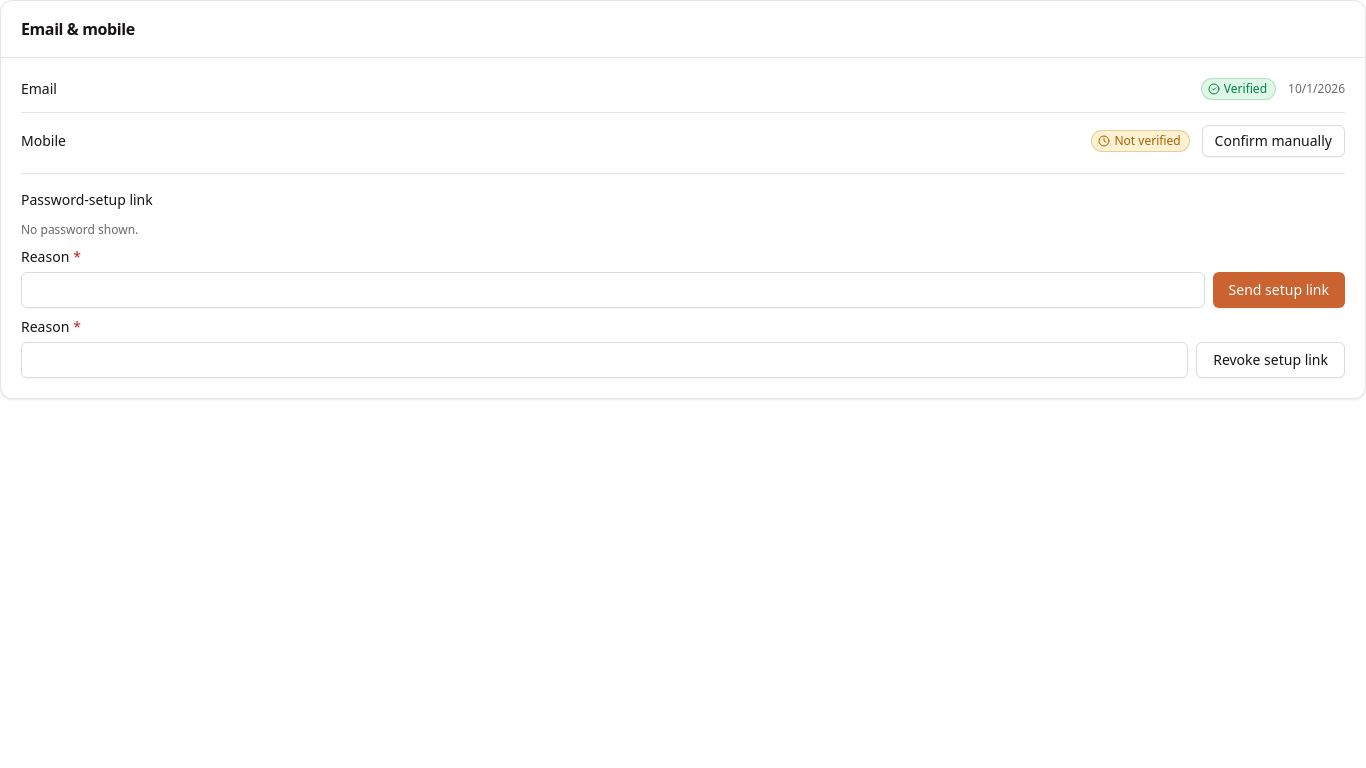
the contact verification card › offers manual confirmation only for an unverified channel, and asks for a reason
What coordinates should you click on to do the following:
click the button "Confirm manually"
I would click on:
 (1273, 141)
Its box is top-left (1202, 125), bottom-right (1345, 157).
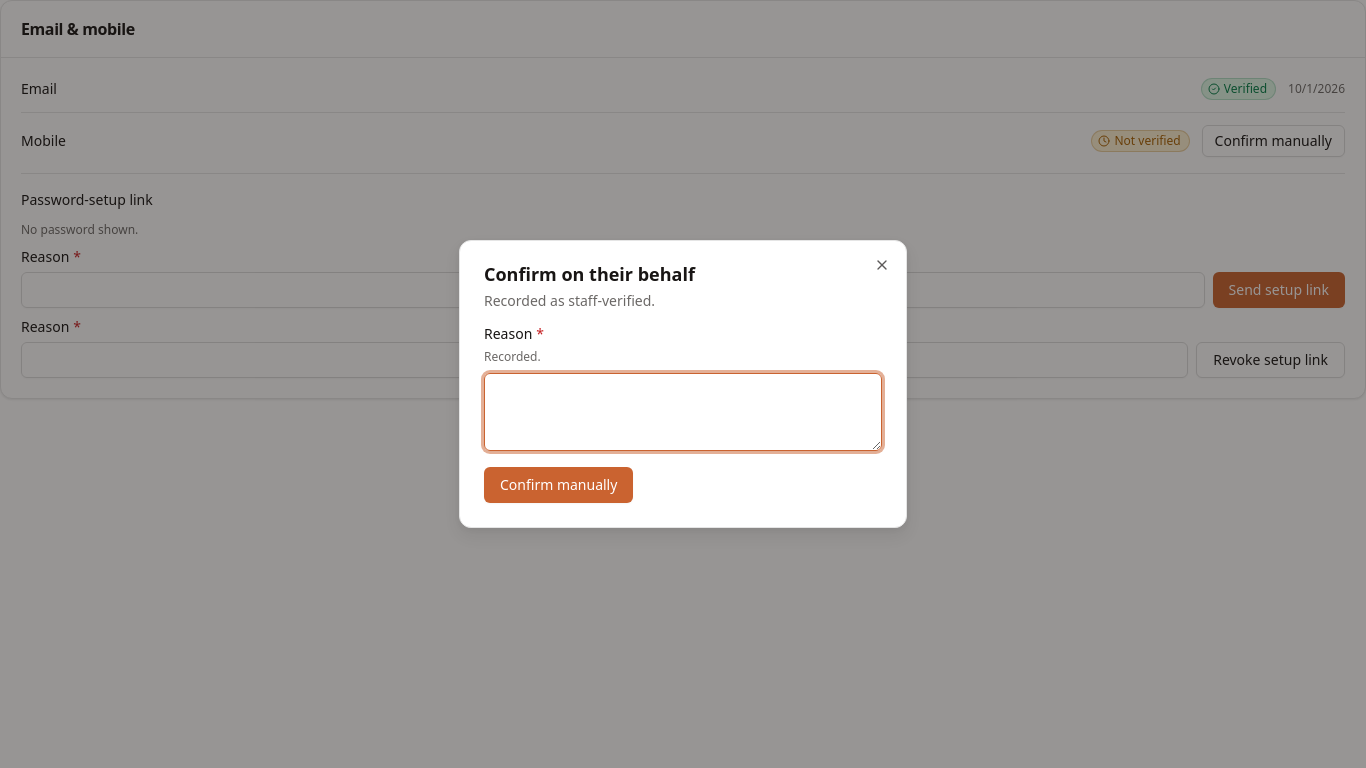
Check: the heading "Confirm on their behalf" is shown, box top-left (484, 262), bottom-right (695, 286)
